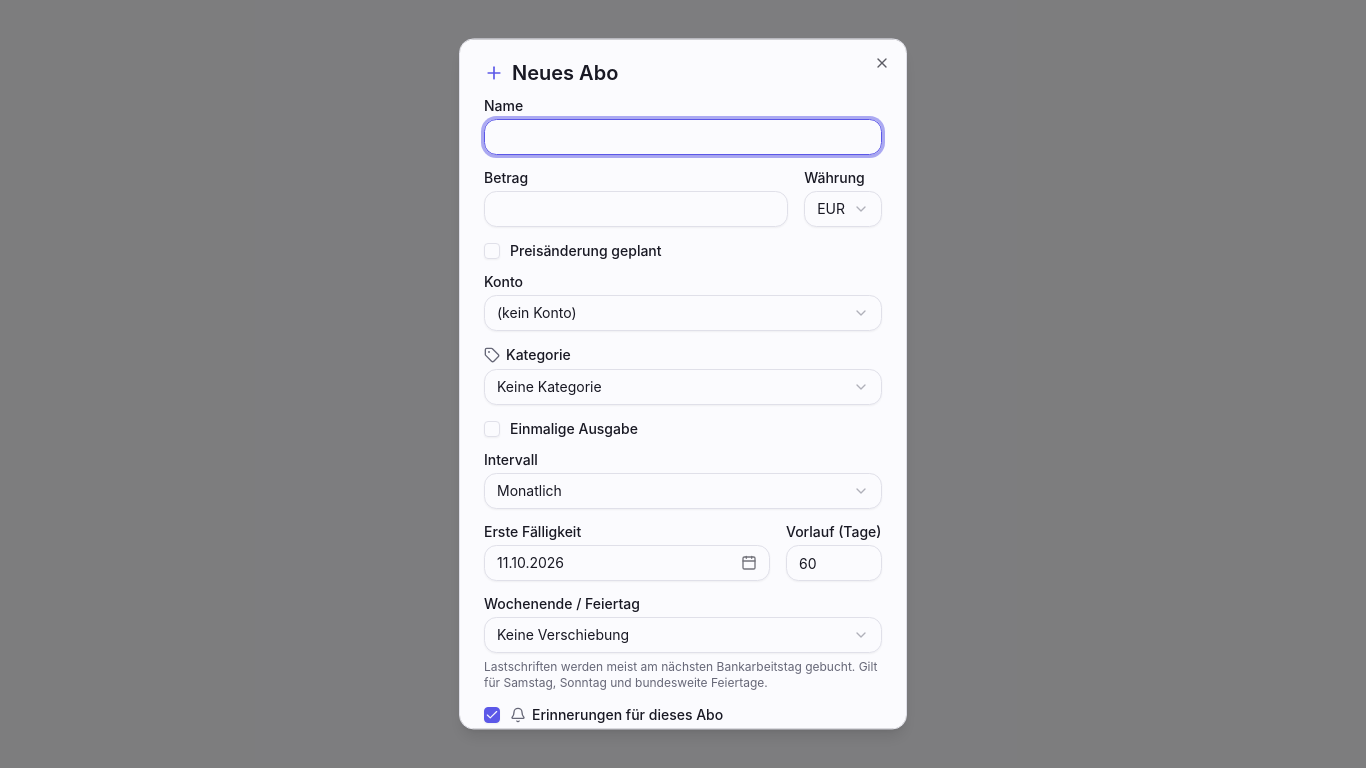
SubscriptionDialog › zeigt feldnahe Fehlermeldung bei Betrag 0 ohne geplante Preisänderung
Type "Test" into the field labelled "Name" at (683, 137), box [484, 119, 882, 155]
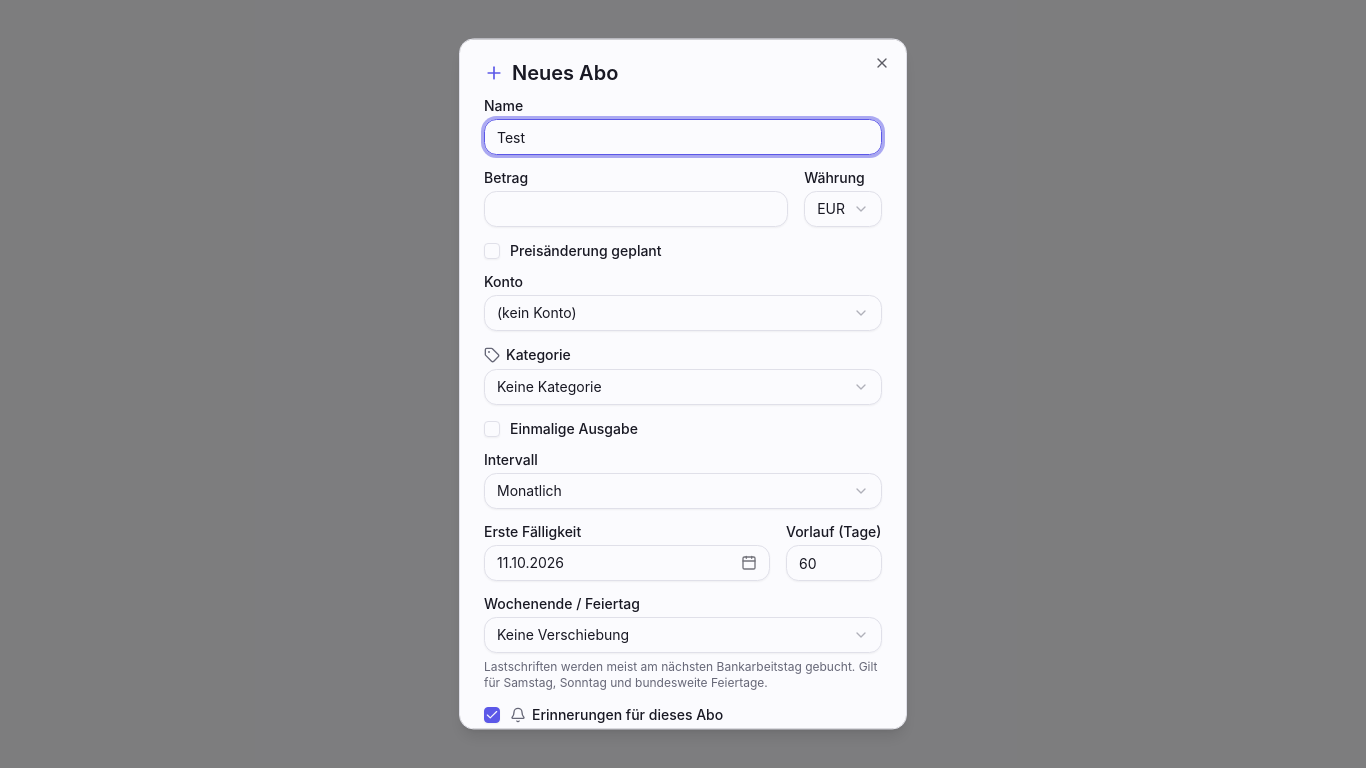
Type "0" into the field labelled "Betrag" at (636, 209), box [484, 191, 788, 227]
(page scrolled)
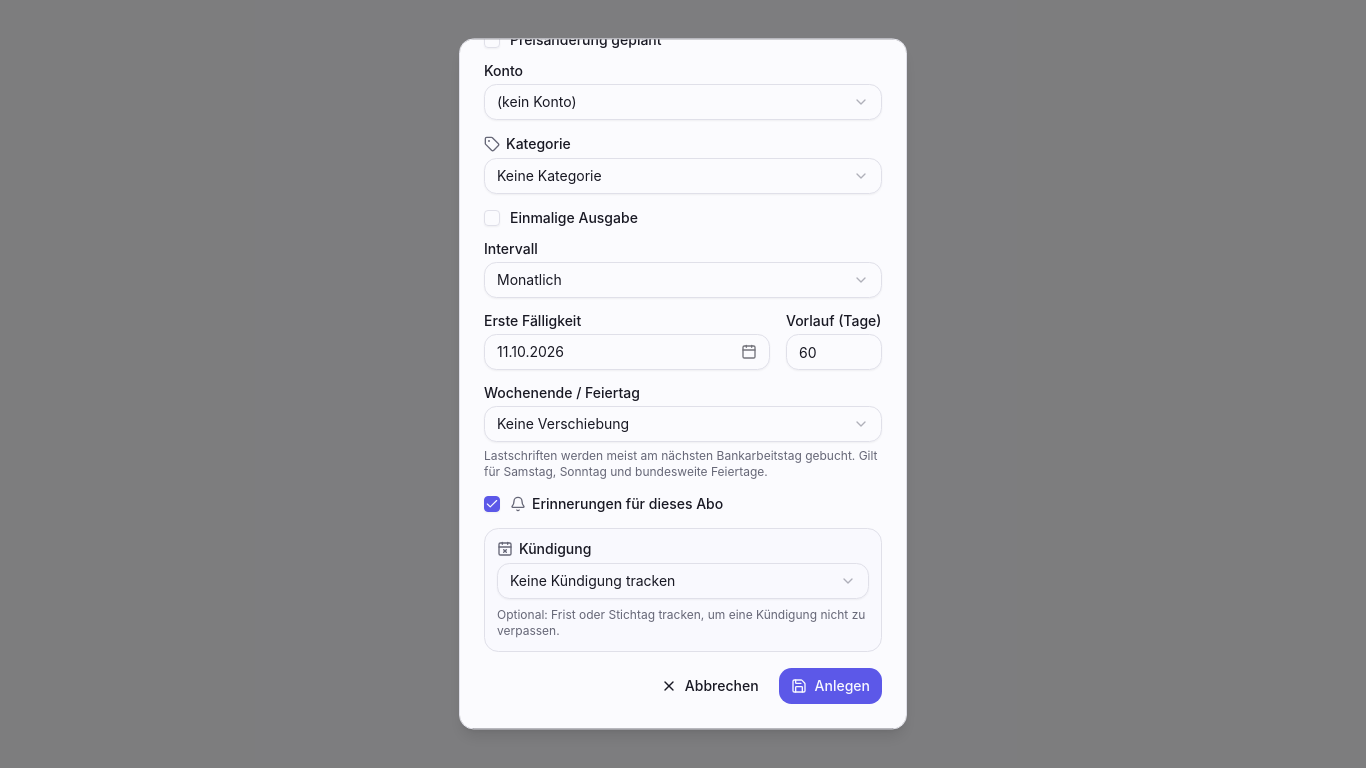
Click the button "Anlegen" at (830, 686), box [779, 668, 882, 704]
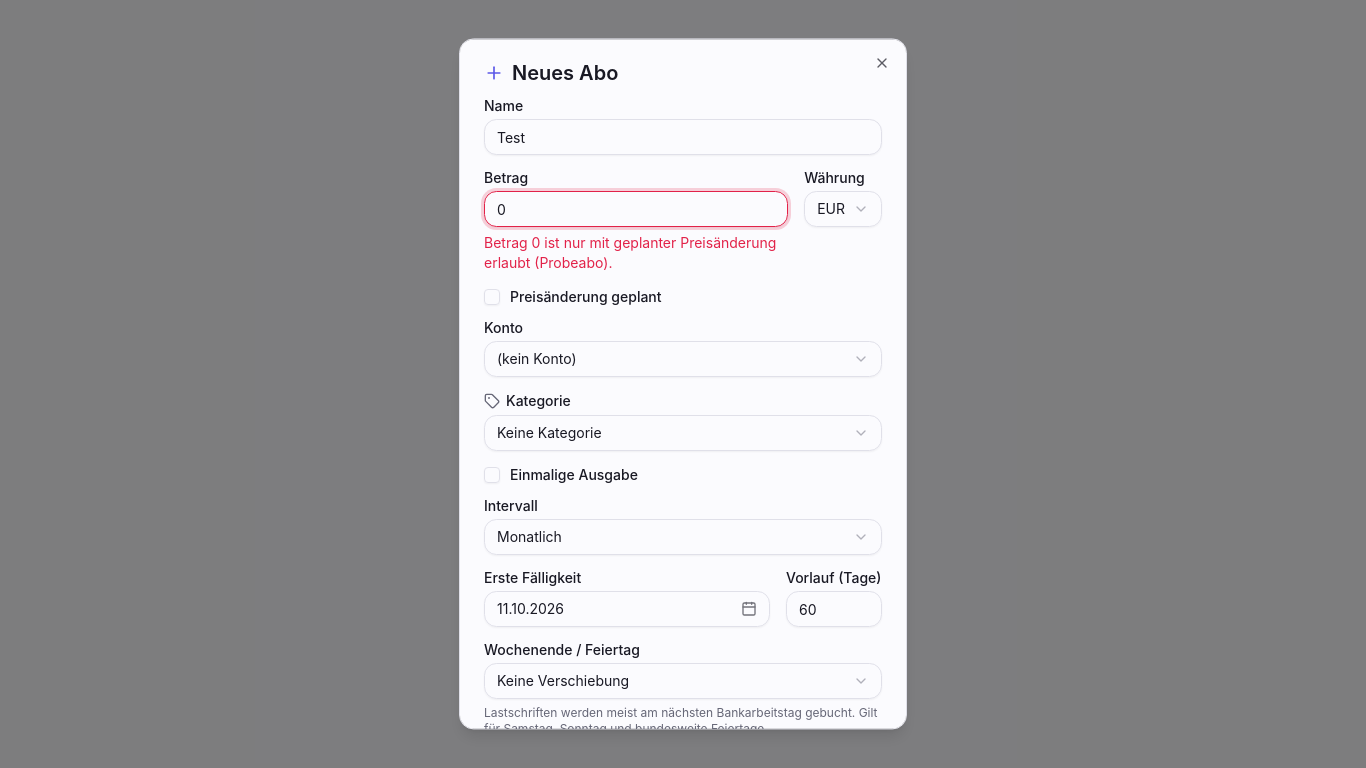
Expected: the text "Betrag 0 ist nur mit geplanter Preisänderung erlaubt (Probeabo)." is shown, [484, 233, 788, 273]
